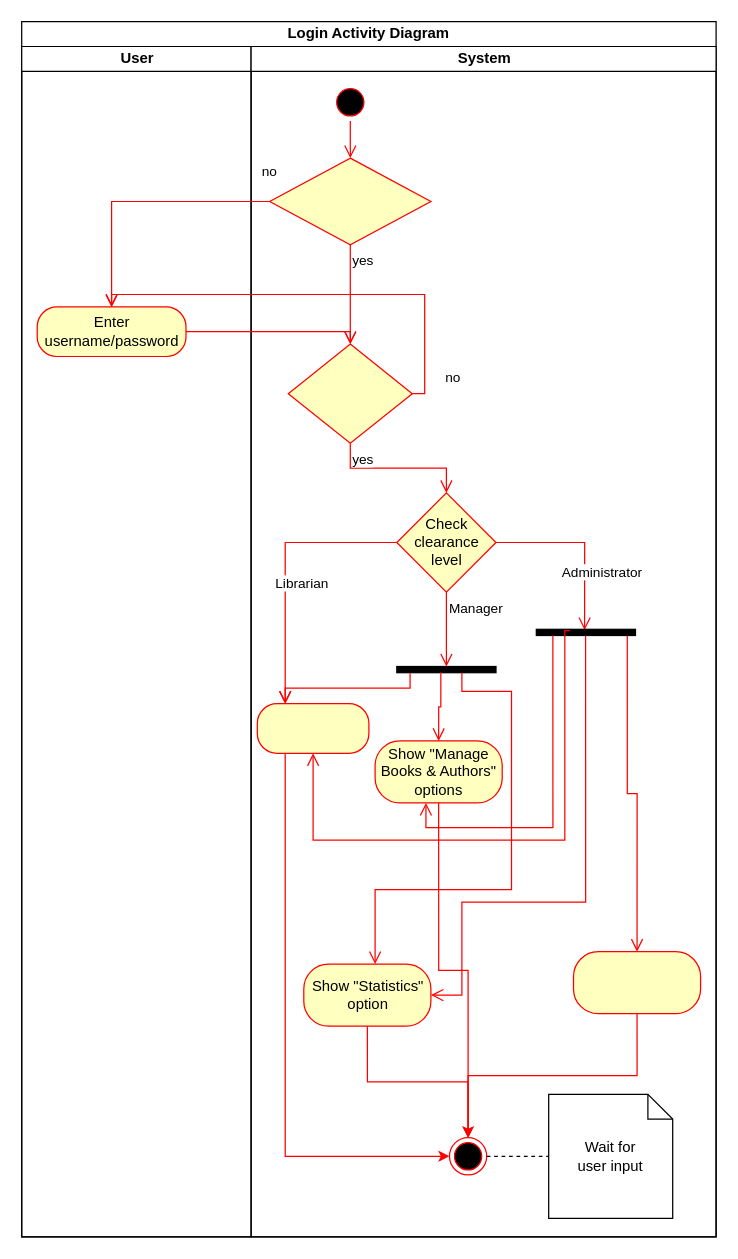
Some shapes in this 738 by 1259 pixel diagram are drawn without their labels. The shapes that lost their labels are listed below. From the top down, each one's centre as x and y in pixels, then its label:
(x=349, y=201): Check for saved session
(x=349, y=393): Check if credentials validity
(x=312, y=727): Show "Sell Books" option
(x=636, y=982): Show "Manage Users" option
